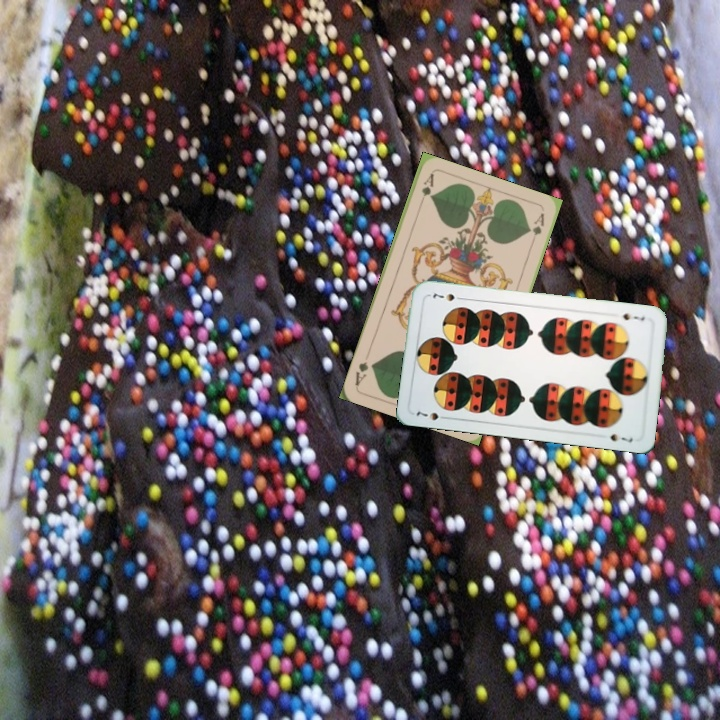GA: (415, 170, 437, 209)
S7: (412, 407, 451, 423), (619, 309, 647, 324)
